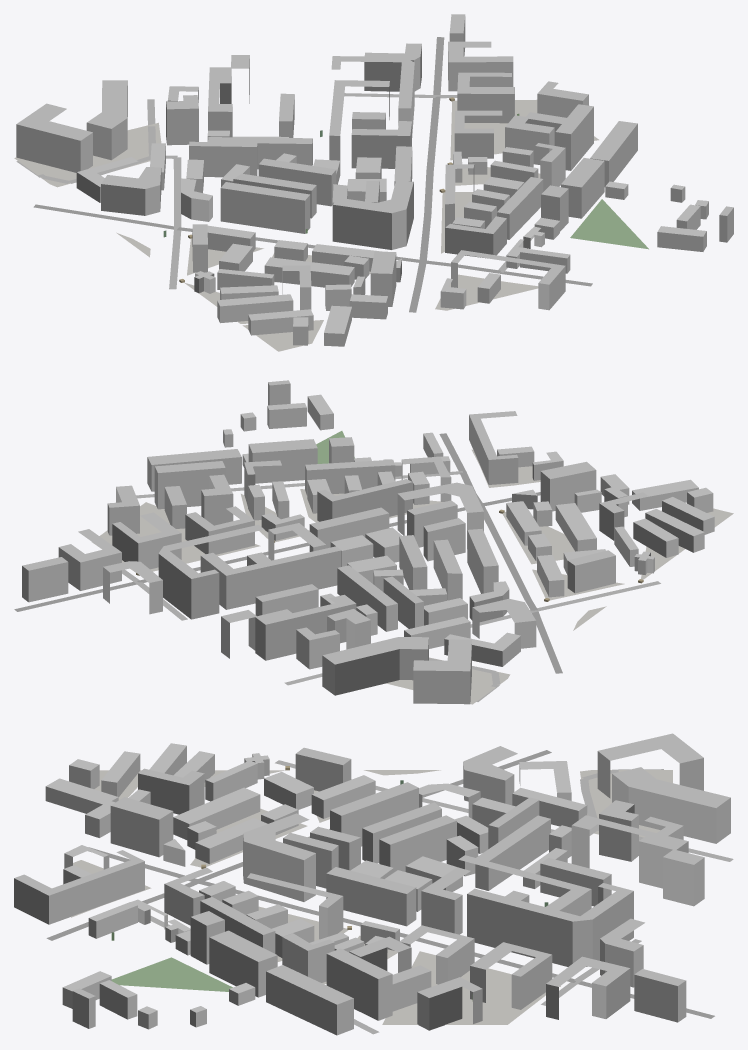
3 renders of one model, top to bottom at view 1: azimuth 30°, elevation 25°; view 2: azimuth 150°, elevation 25°; view 3: azimuth 270°, elevation 25°, orthographic. The views are drawn at different scales.
Size of the model in its own units: 560 by 44.08 by 598.
